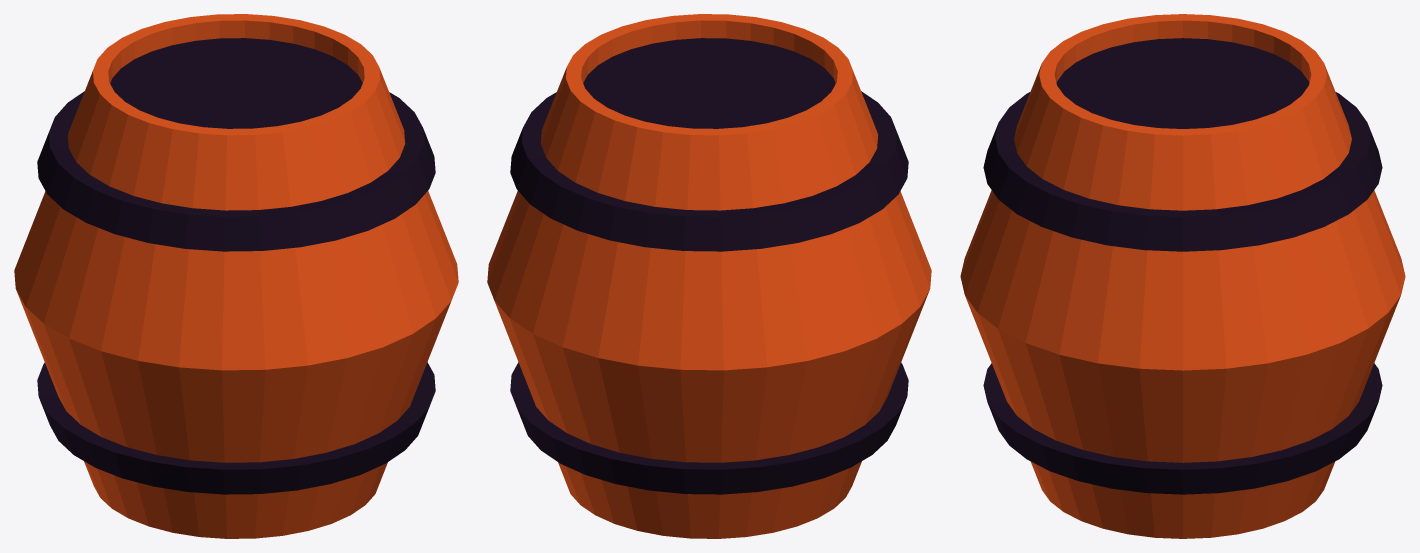
The picture shows the model from 3 angles, left to right: view 1: azimuth 30°, elevation 25°; view 2: azimuth 150°, elevation 25°; view 3: azimuth 270°, elevation 25°; orthographic projection.
Visible parts, largest first — view 1: Cylinder.001; view 2: Cylinder.001; view 3: Cylinder.001.
Part boxes in pixels (bbox=[...]): Cylinder.001: bbox=[14, 14, 458, 538]; Cylinder.001: bbox=[487, 14, 931, 538]; Cylinder.001: bbox=[960, 14, 1405, 538].
Size of the model in its own units: 200 by 200 by 200.
